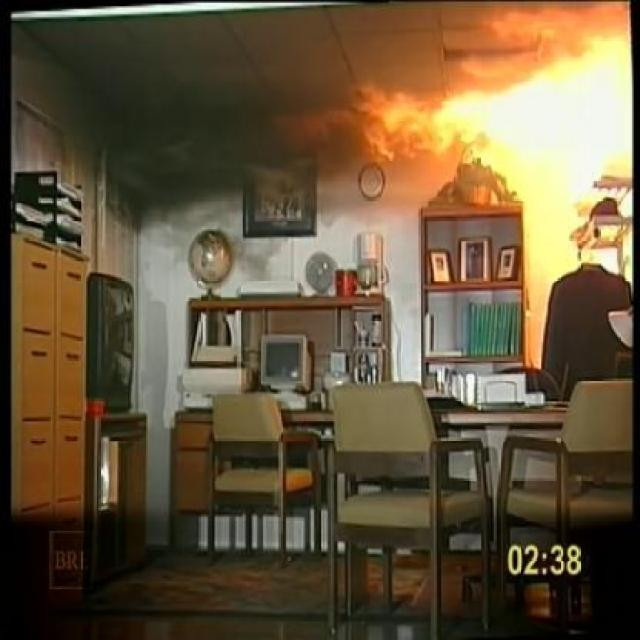fire: (402, 69, 624, 160)
smoke: (140, 118, 254, 230)
